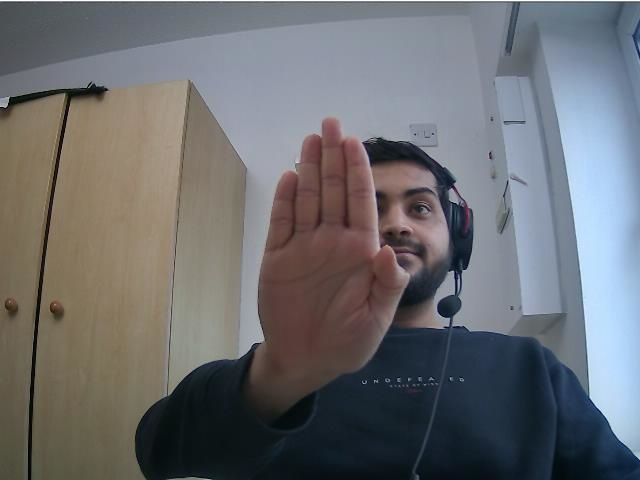up: (256, 115, 411, 377)
